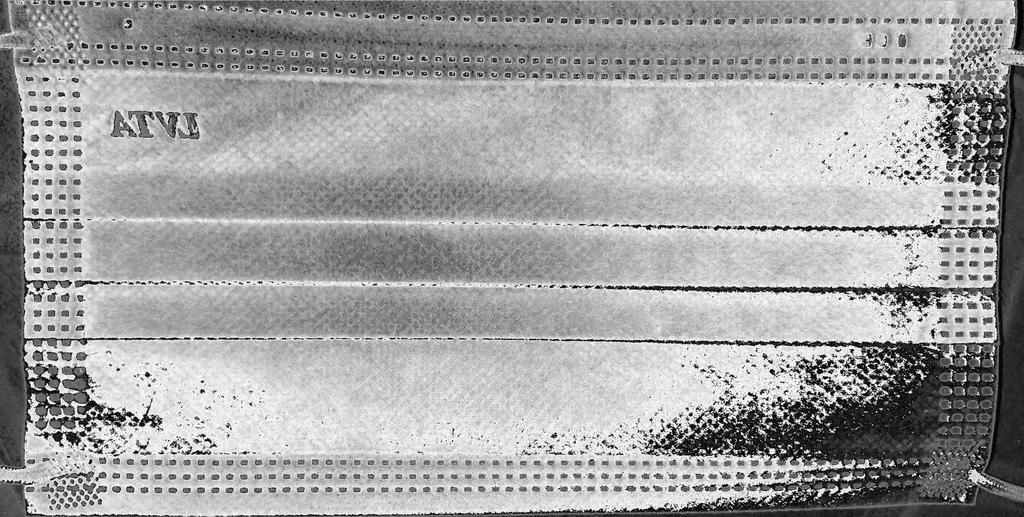High GSM: (71, 67, 938, 462)
